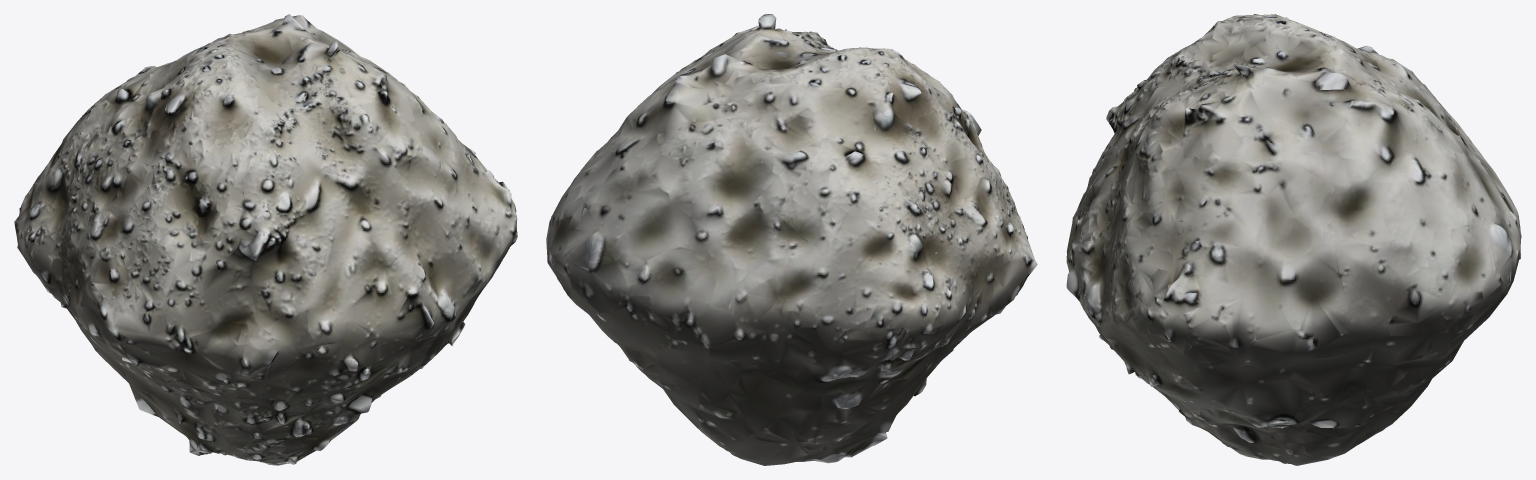
File: ryugu-low.glb
3 renders of one model, left to right at view 1: azimuth 30°, elevation 25°; view 2: azimuth 150°, elevation 25°; view 3: azimuth 270°, elevation 25°, orthographic.
Bounding box in the file's own units: 1.89 × 1.83 × 1.83.
1 material, 1 textured.
